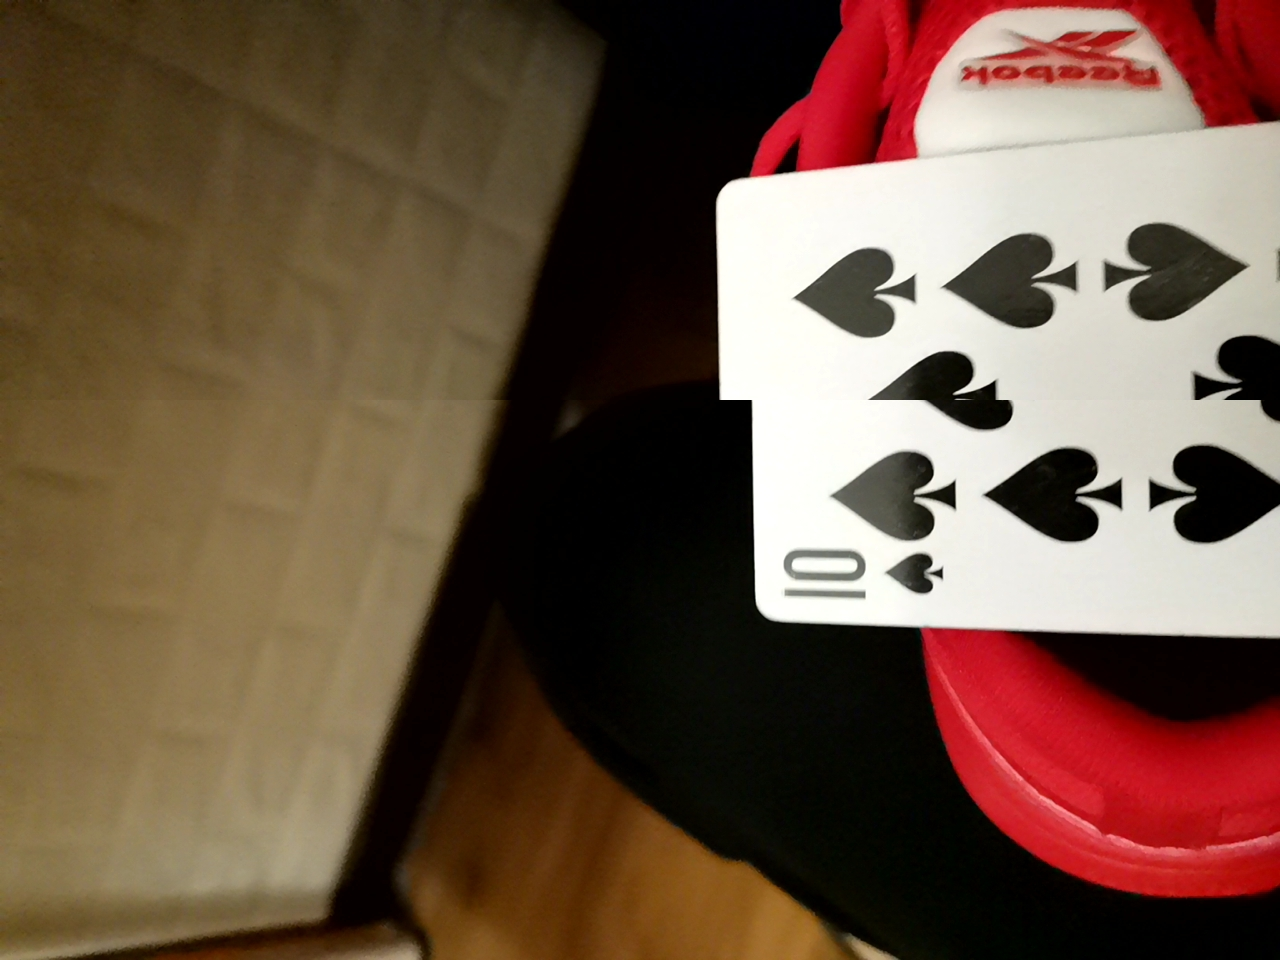ht 10: (701, 144, 1280, 634)
